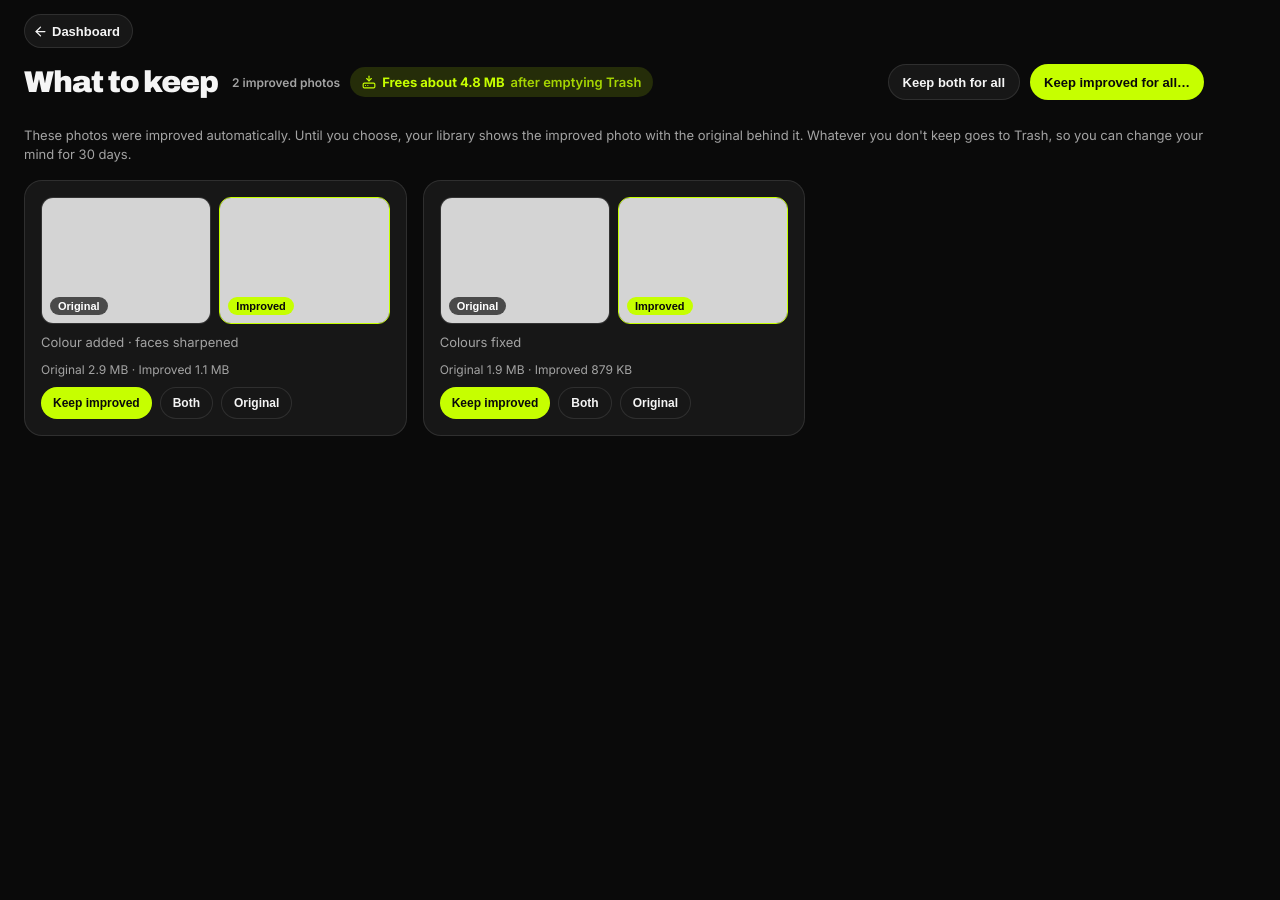
Scenario: What to keep › keeps the improved photos for all only after asking; Keep both for all needs no question
Later steps or results of the test are not shown.
Click the button "Keep improved for all…".
click(1117, 82)  # box [1030,64,1204,100]
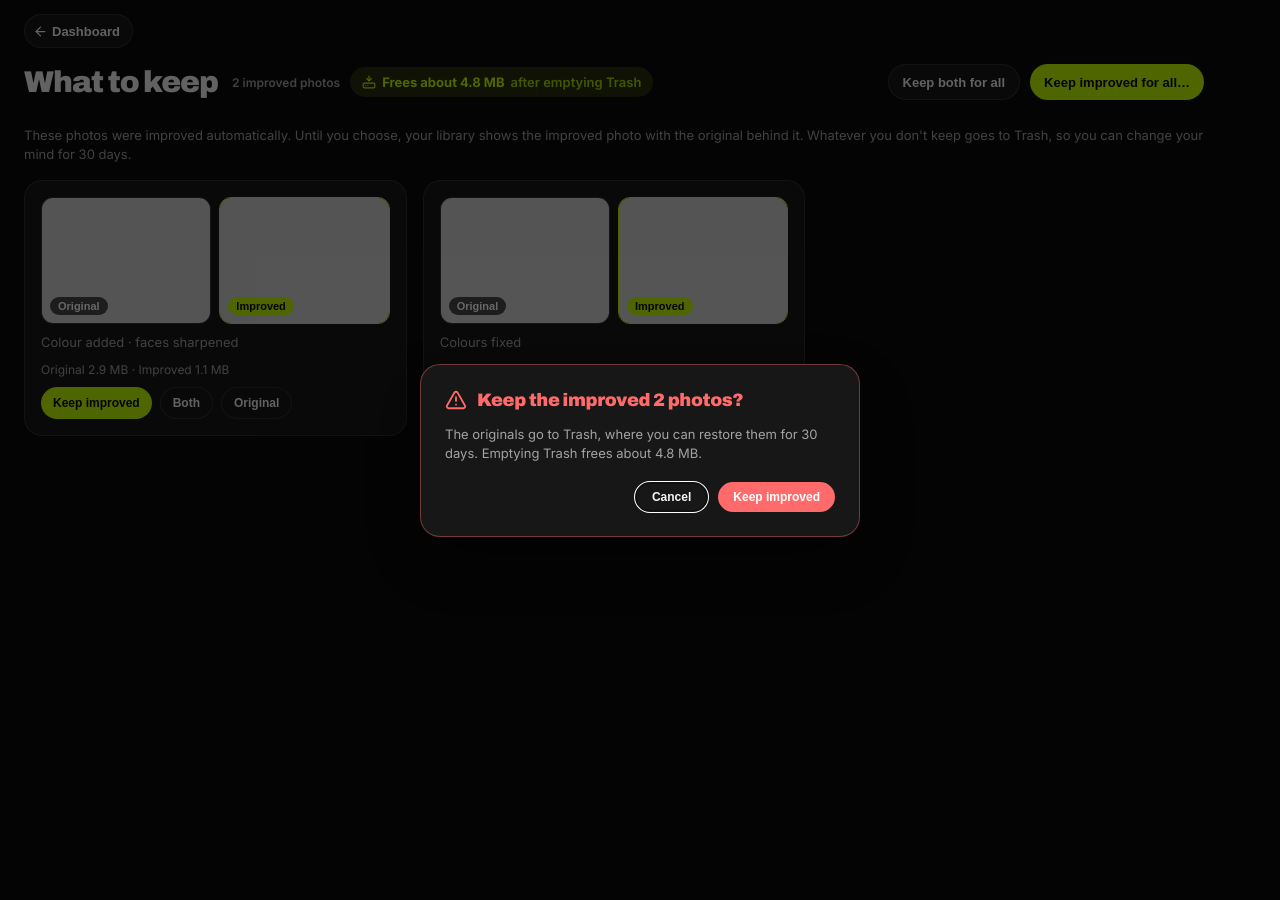
Now the dialog "Keep the improved 2 photos?" shows "originals go to Trash", box [445,426,818,461]
